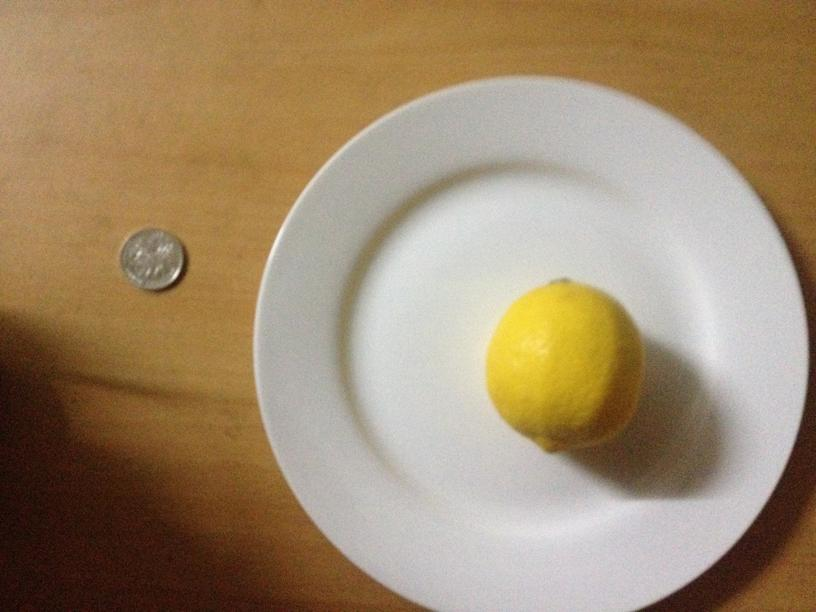coin: (119, 229, 185, 292)
lemon: (483, 275, 644, 451)
